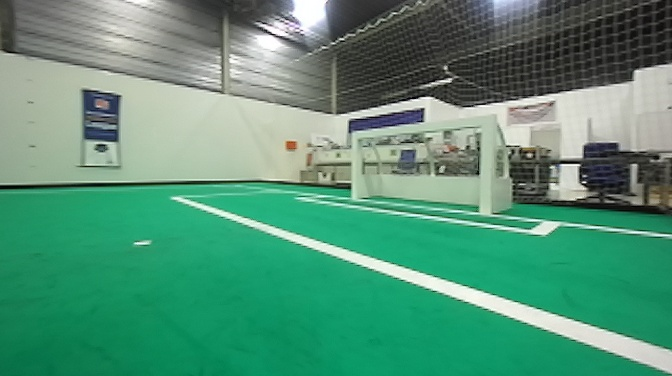goalpost: (471, 116, 495, 221), (346, 132, 364, 202)
